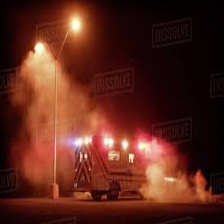smoke: (32, 58, 93, 148), (145, 165, 209, 211)
